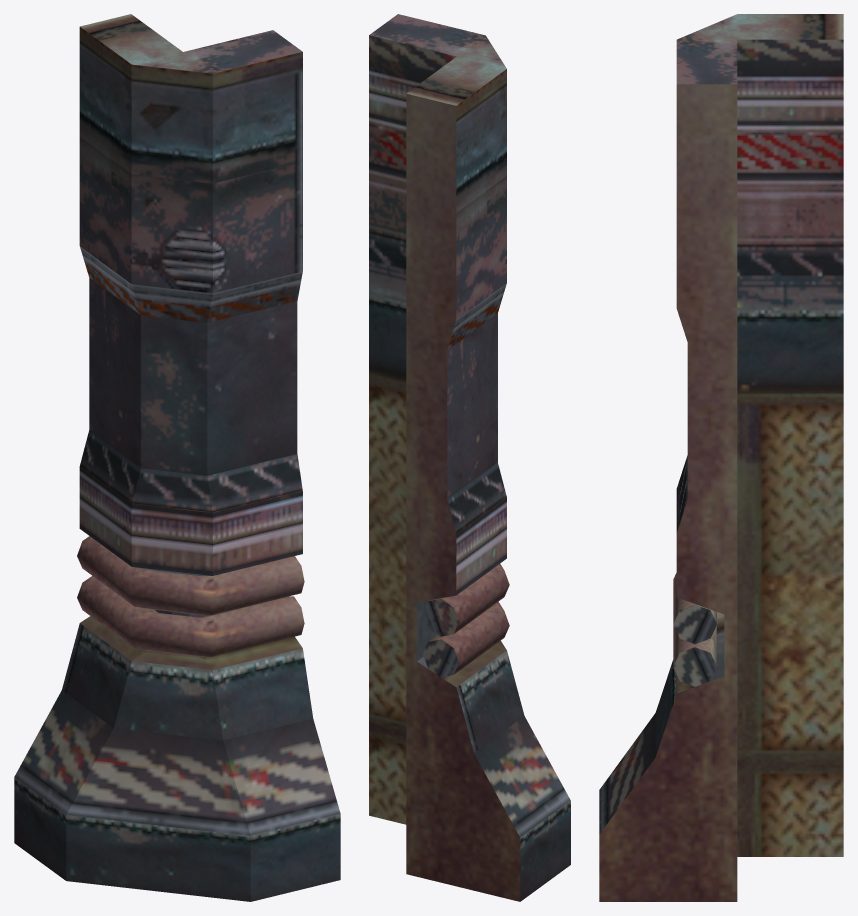
File: SM_BLD_METAPILLAR_01.fbx
3 renders of one model, left to right at view 1: azimuth 30°, elevation 25°; view 2: azimuth 150°, elevation 25°; view 3: azimuth 270°, elevation 25°, orthographic. The views are drawn at different scales.
Parts seen in each view (by area): view 1: SM_BLD_METAPILLAR_01; view 2: SM_BLD_METAPILLAR_01; view 3: SM_BLD_METAPILLAR_01.
Part boxes in pixels (x1,y1,x2,y2): SM_BLD_METAPILLAR_01: (14, 14, 340, 901); SM_BLD_METAPILLAR_01: (369, 14, 570, 901); SM_BLD_METAPILLAR_01: (599, 14, 843, 901).
Bounding box in the file's own units: 1.15 × 4.25 × 1.15.
